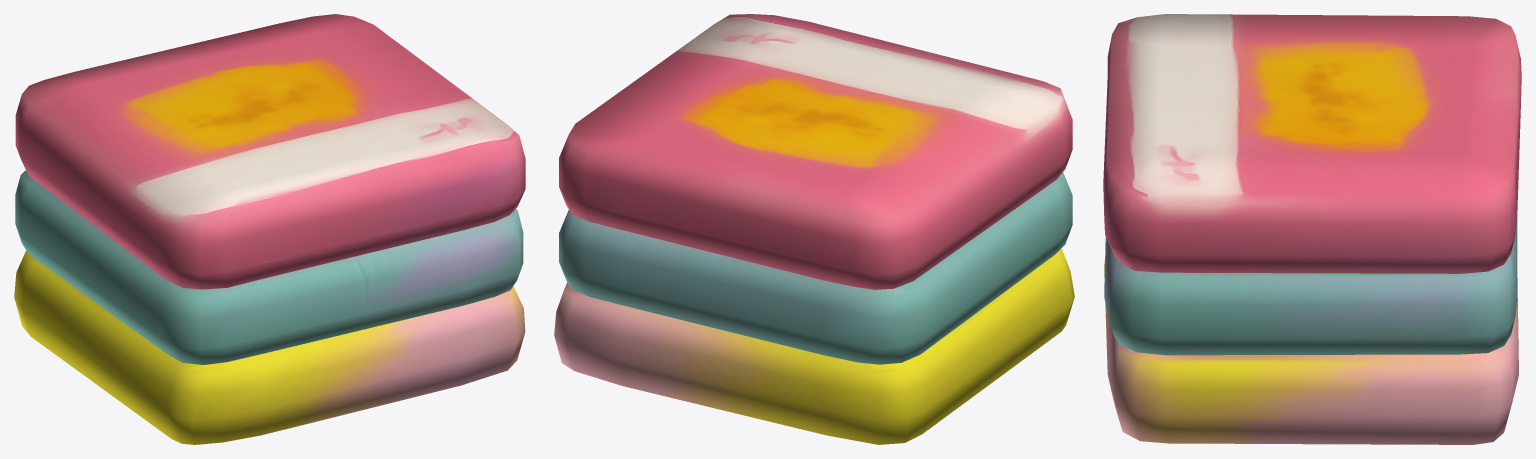
The model's file is tripo_convert_83c153e0-fa4f-4fe0-810b-92502799e486.fbx.
3 renders of one model, left to right at view 1: azimuth 30°, elevation 25°; view 2: azimuth 150°, elevation 25°; view 3: azimuth 270°, elevation 25°, orthographic. The views are drawn at different scales.
Visible parts, largest first — view 1: tripo_node_83c153e0; view 2: tripo_node_83c153e0; view 3: tripo_node_83c153e0.
Boxes of the visible parts, x1,y1,x2,y2 form: tripo_node_83c153e0: (14,14,525,444); tripo_node_83c153e0: (554,14,1074,444); tripo_node_83c153e0: (1103,14,1521,444).
Bounding box in the file's own units: 22.34 × 14.03 × 20.76.
1 material, 1 textured.
